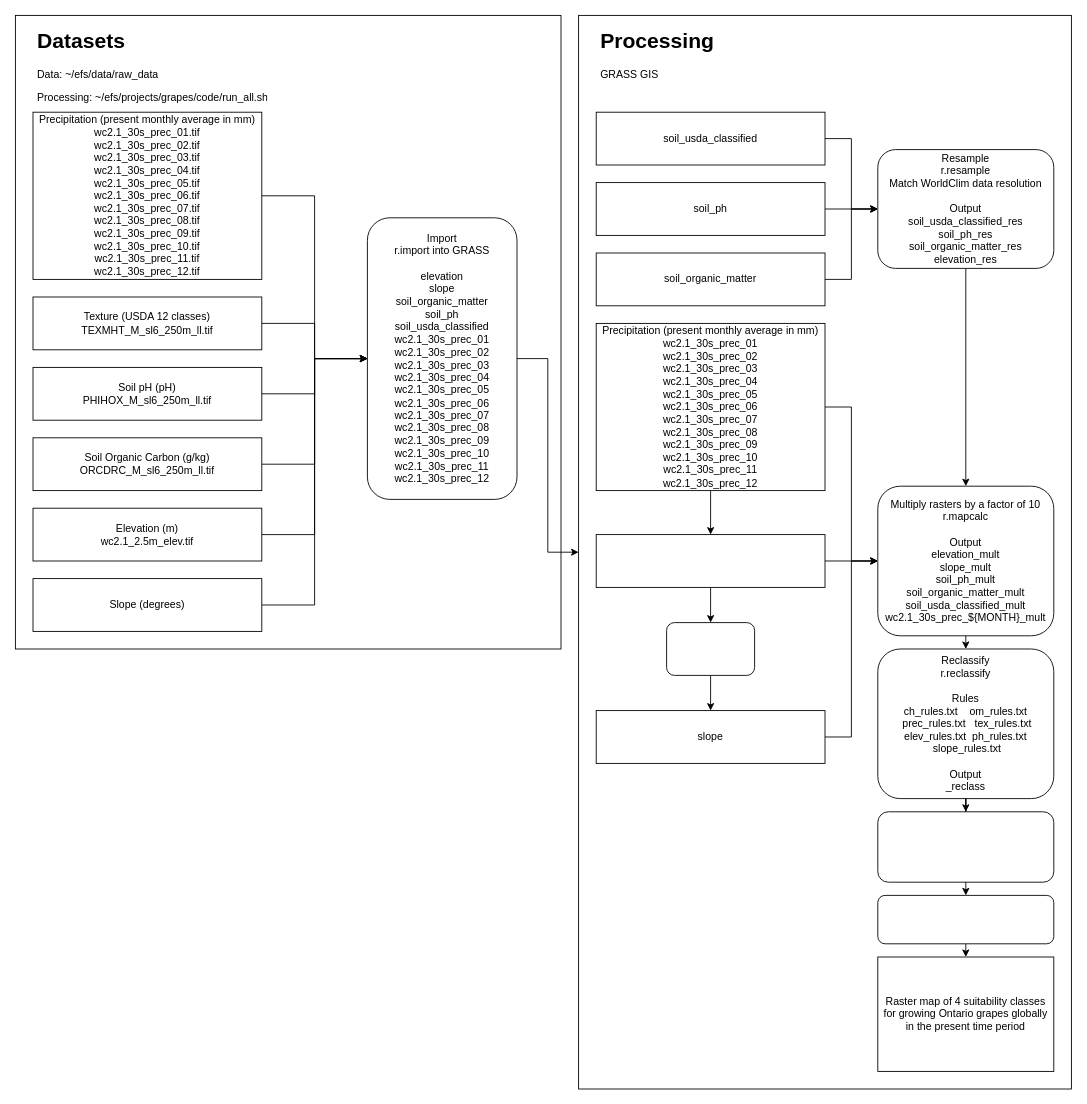
The diagram is 1087 pixels wide and 1104 high, and some of its shapes have lost their labels. The box of each missing label's shape, as (x1, y1, x2, y2) in pixels:
AHP r.mcda.ahp Output grapes_present_30m: (877, 811, 1054, 882)
Calculate slope r.slope.aspect: (666, 622, 755, 675)
elevation: (595, 534, 825, 587)
Export AHP TIFF r.out.gdal: (877, 895, 1054, 944)
